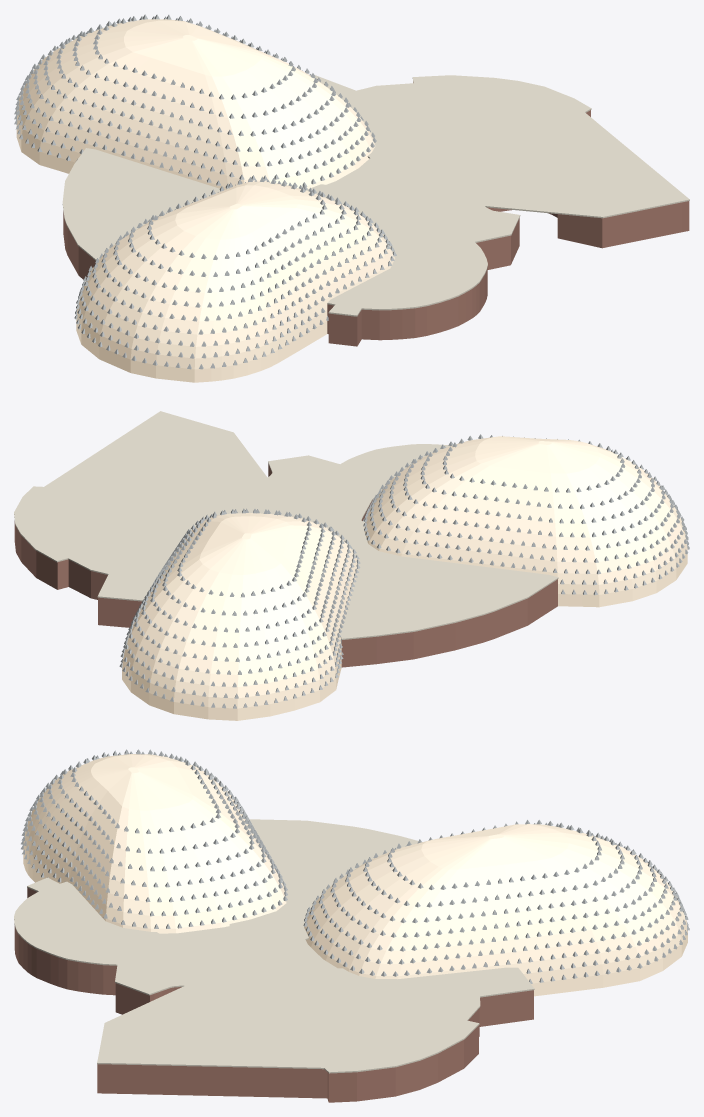
The model's file is sgp_esplanade.glb.
The picture shows the model from 3 angles, top to bottom: view 1: azimuth 30°, elevation 25°; view 2: azimuth 150°, elevation 25°; view 3: azimuth 270°, elevation 25°; orthographic projection. The views are drawn at different scales.
Visible parts, largest first — view 1: singapore-esplanade; view 2: singapore-esplanade; view 3: singapore-esplanade.
Boxes of the visible parts, <box> form: singapore-esplanade: <box>14,14,689,382</box>; singapore-esplanade: <box>14,411,689,720</box>; singapore-esplanade: <box>14,749,689,1102</box>.
Size of the model in its own units: 187 by 35 by 187.
